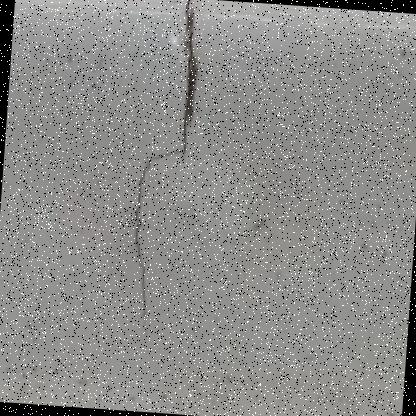Crack: (81, 0, 235, 347)
